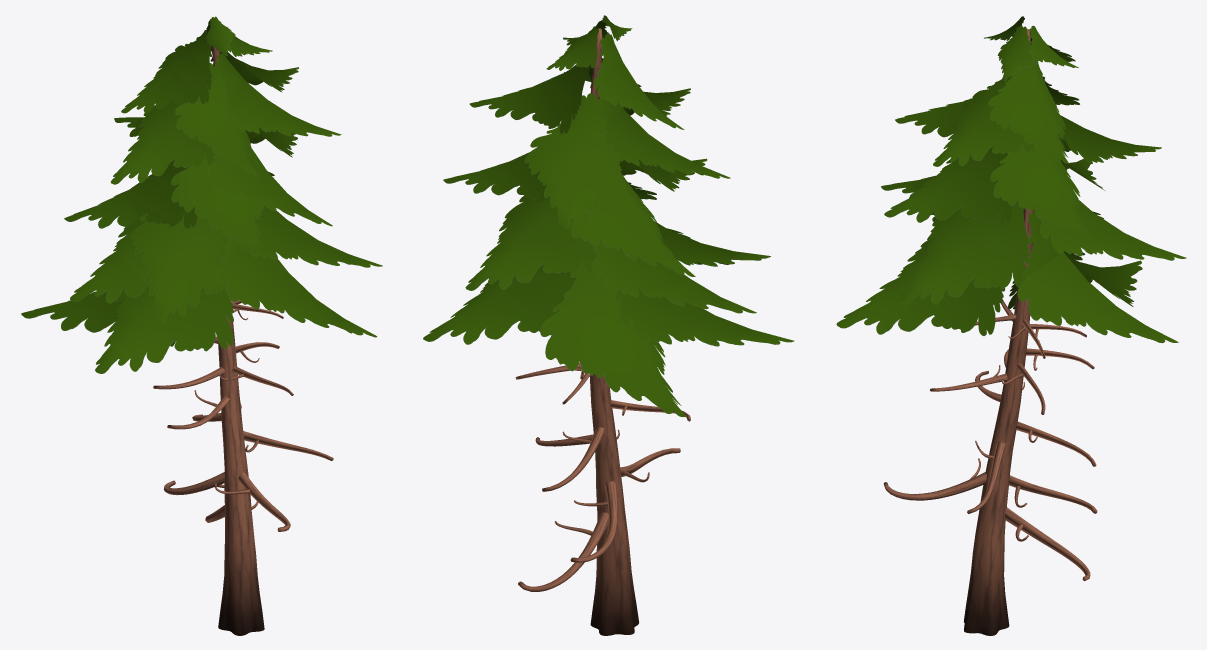
Rendered from tree_pine_3.glb.
3 views of the same model, side by side, from view 1: azimuth 30°, elevation 25°; view 2: azimuth 150°, elevation 25°; view 3: azimuth 270°, elevation 25° (orthographic). The views are drawn at different scales.
Visible parts, largest first — view 1: Pine_3; view 2: Pine_3; view 3: Pine_3.
Boxes of the visible parts, box(x1,y1,x2,y2) form: Pine_3: box(21, 16, 382, 635); Pine_3: box(423, 15, 794, 635); Pine_3: box(836, 16, 1186, 635).
Size of the model in its own units: 3.61 by 7.39 by 4.
2 materials, 2 textured.
